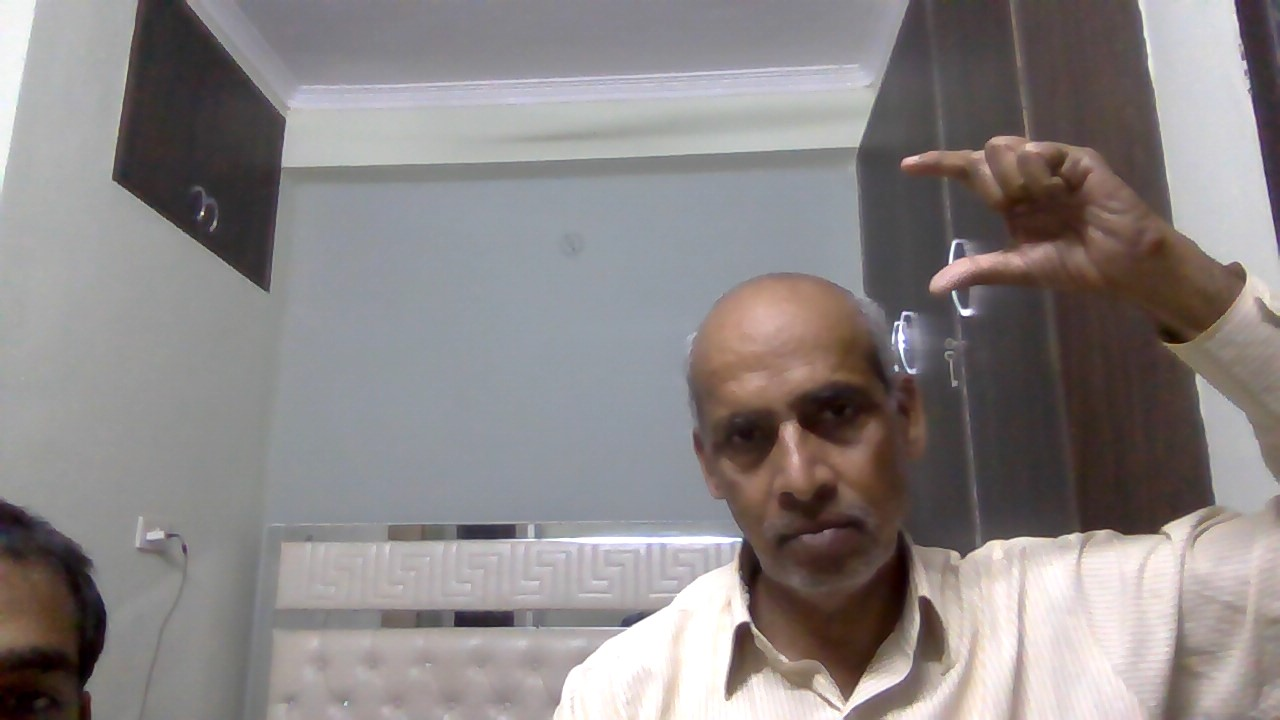Paste: (883, 120, 1169, 319)
